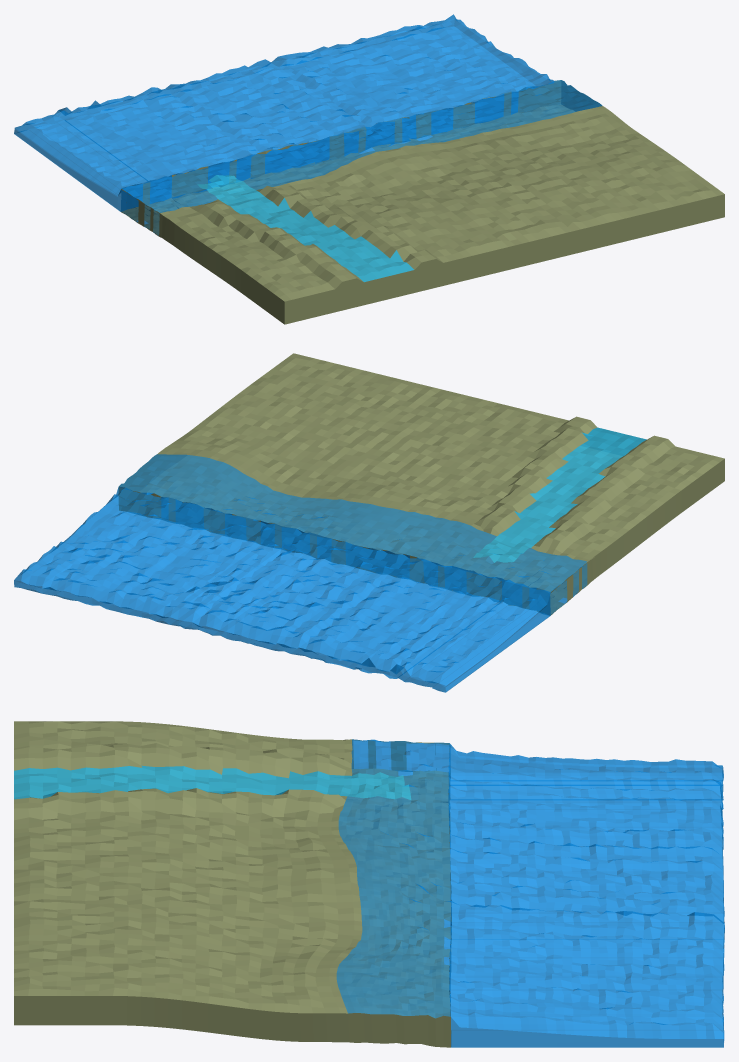
The model's file is BeachExpansion.fbx.
3 renders of one model, top to bottom at view 1: azimuth 30°, elevation 25°; view 2: azimuth 150°, elevation 25°; view 3: azimuth 270°, elevation 25°, orthographic. The views are drawn at different scales.
Parts seen in each view (by area): view 1: Plane, Plane.050; view 2: Plane, Plane.050; view 3: Plane, Plane.050.
Part boxes in pixels (x1,y1,x2,y2): Plane: (120,80,724,324); Plane.050: (14,14,553,211); Plane: (118,353,724,615); Plane.050: (14,486,550,692); Plane: (14,721,451,1047); Plane.050: (448,743,724,1047).
Bounding box in the file's own units: 1632 × 162 × 1751.
